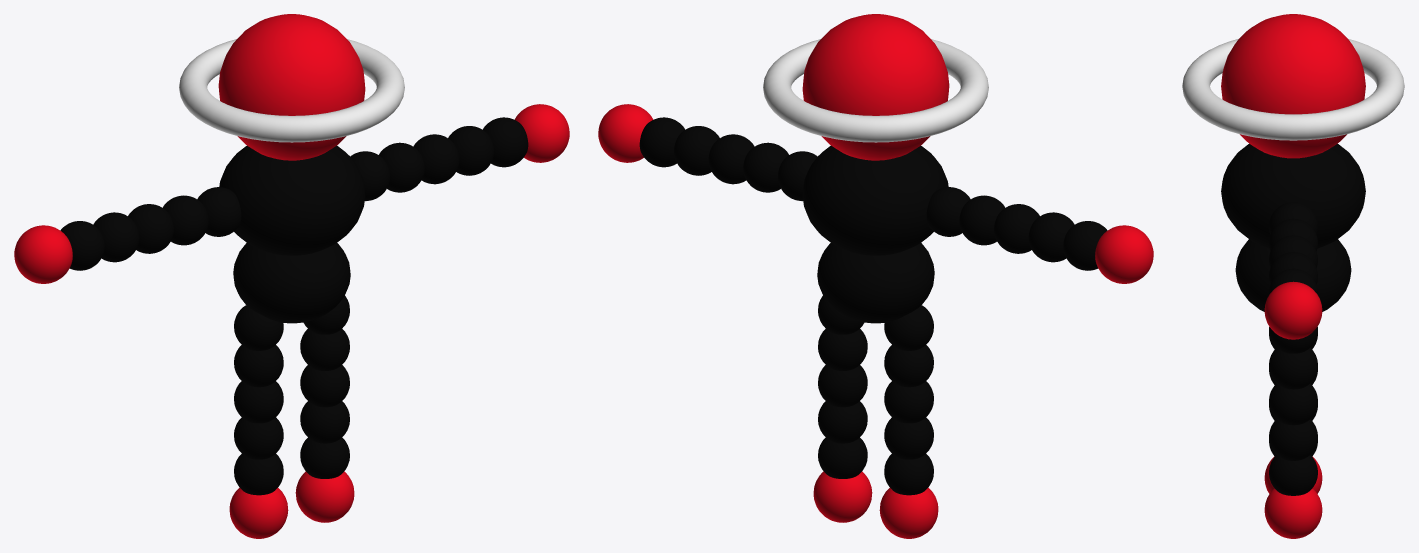
3 renders of one model, left to right at view 1: azimuth 30°, elevation 25°; view 2: azimuth 150°, elevation 25°; view 3: azimuth 270°, elevation 25°, orthographic.
Parts seen in each view (by area): view 1: トーラス.002; view 2: トーラス.002; view 3: トーラス.002.
Part boxes in pixels (left/top/right/bottom): トーラス.002: left=14, top=14, right=569, bottom=538; トーラス.002: left=598, top=14, right=1153, bottom=538; トーラス.002: left=1182, top=14, right=1404, bottom=538.
Bounding box in the file's own units: 215 × 190 × 76.8.
